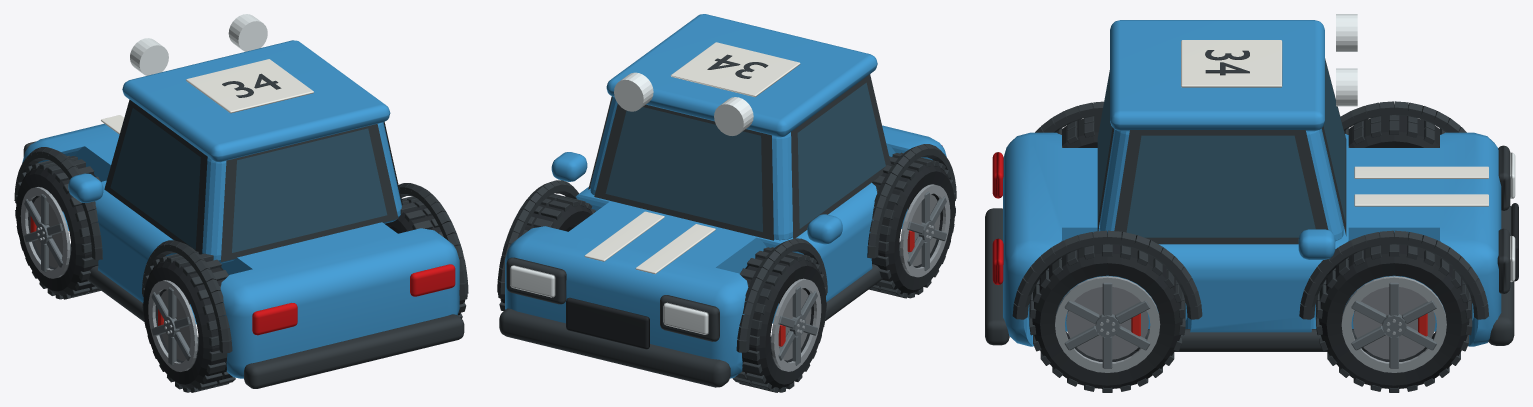
Rendered from car_dirt.glb.
3 renders of one model, left to right at view 1: azimuth 30°, elevation 25°; view 2: azimuth 150°, elevation 25°; view 3: azimuth 270°, elevation 25°, orthographic. The views are drawn at different scales.
Parts seen in each view (by area): view 1: Body.002, WheelMesh.010, WheelMesh.008, WheelMesh.011; view 2: Body.002, WheelMesh.008, WheelMesh.010, WheelMesh.009; view 3: Body.002, WheelMesh.009, WheelMesh.011, WheelMesh.008, WheelMesh.010.
Part boxes in pixels (<box>): Body.002: <box>14,14,468,388</box>; WheelMesh.010: <box>142,251,235,392</box>; WheelMesh.008: <box>15,155,100,299</box>; WheelMesh.011: <box>385,196,467,318</box>; Body.002: <box>497,14,956,387</box>; WheelMesh.008: <box>732,247,826,392</box>; WheelMesh.010: <box>869,152,955,298</box>; WheelMesh.009: <box>498,193,595,311</box>; Body.002: <box>985,14,1518,351</box>; WheelMesh.009: <box>1316,233,1472,392</box>; WheelMesh.011: <box>1029,244,1185,392</box>; WheelMesh.008: <box>1344,115,1445,147</box>; WheelMesh.010: <box>1056,115,1101,147</box>.
Bounding box in the file's own units: 2.64 × 2.26 × 3.91.
